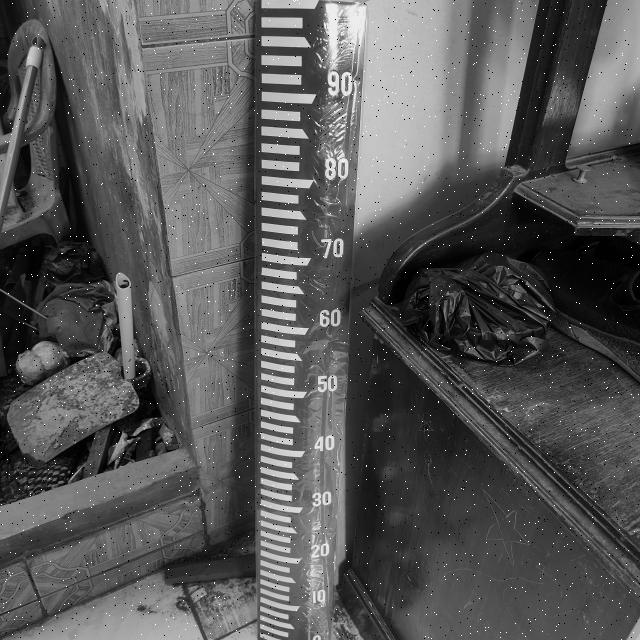10: (309, 588, 328, 604)
20: (309, 542, 332, 560)
30: (311, 492, 334, 508)
40: (313, 434, 336, 453)
50: (314, 371, 340, 395)
60: (318, 308, 344, 328)
70: (320, 233, 346, 260)
80: (321, 155, 349, 181)
90: (327, 70, 355, 96)
staff: (258, 3, 373, 636)
